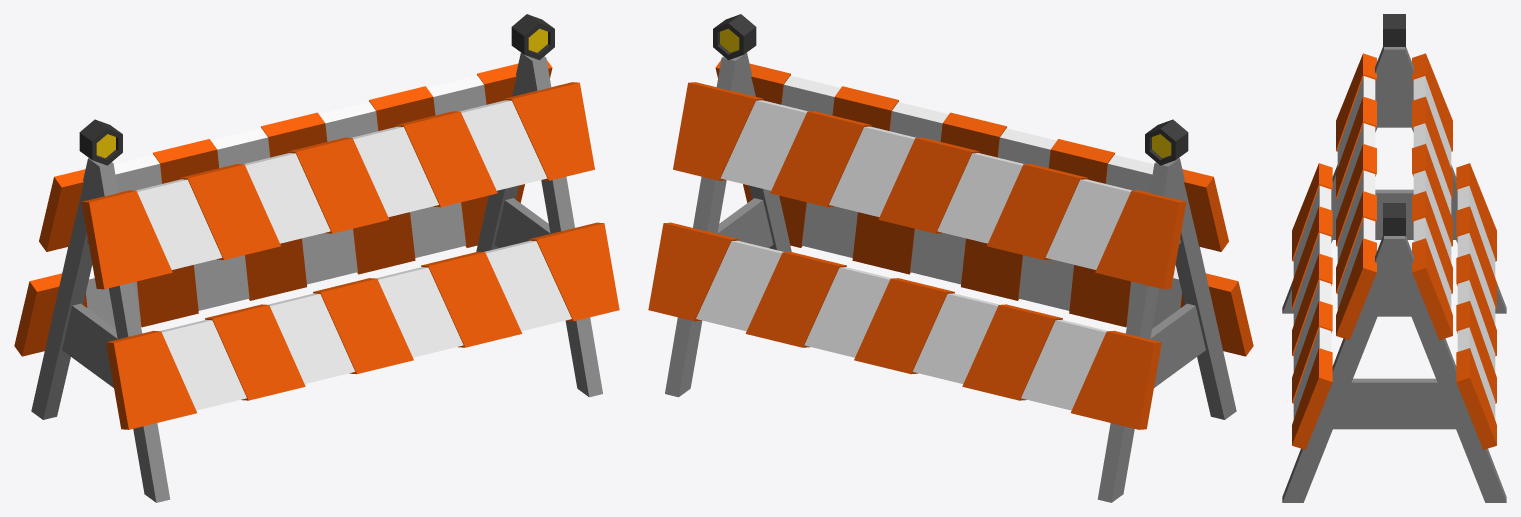
Rendered from obstacle2_broken.fbx.
The picture shows the model from 3 angles, left to right: view 1: azimuth 30°, elevation 25°; view 2: azimuth 150°, elevation 25°; view 3: azimuth 270°, elevation 25°; orthographic projection. The views are drawn at different scales.
Parts seen in each view (by area): view 1: 1, 3, 7, 4, 2, 8, 6, 5; view 2: 7, 6, 5, 8, 3, 1, 4, 2; view 3: 8, 7, 3, 5, 1, 6, 2, 4.
Boxes of the visible parts, left/top/right/bottom form: 1: left=81, top=129, right=420, bottom=289; 3: left=299, top=222, right=619, bottom=382; 7: left=31, top=119, right=257, bottom=502; 4: left=106, top=297, right=309, bottom=429; 2: left=387, top=82, right=594, bottom=209; 8: left=324, top=14, right=602, bottom=397; 6: left=14, top=231, right=340, bottom=356; 5: left=249, top=60, right=552, bottom=162; 7: left=979, top=119, right=1236, bottom=502; 6: left=838, top=268, right=1161, bottom=429; 5: left=673, top=82, right=987, bottom=241; 8: left=648, top=14, right=850, bottom=397; 3: left=743, top=184, right=1063, bottom=309; 1: left=903, top=104, right=1228, bottom=251; 4: left=1045, top=259, right=1253, bottom=356; 2: left=715, top=60, right=908, bottom=134; 8: left=1282, top=203, right=1506, bottom=502; 7: left=1282, top=14, right=1506, bottom=313; 3: left=1292, top=249, right=1332, bottom=449; 5: left=1412, top=141, right=1452, bottom=340; 1: left=1336, top=53, right=1376, bottom=257; 6: left=1456, top=163, right=1496, bottom=360; 2: left=1336, top=188, right=1376, bottom=340; 4: left=1292, top=163, right=1332, bottom=308.
Size of the model in its own units: 110 by 70.89 by 48.53.
